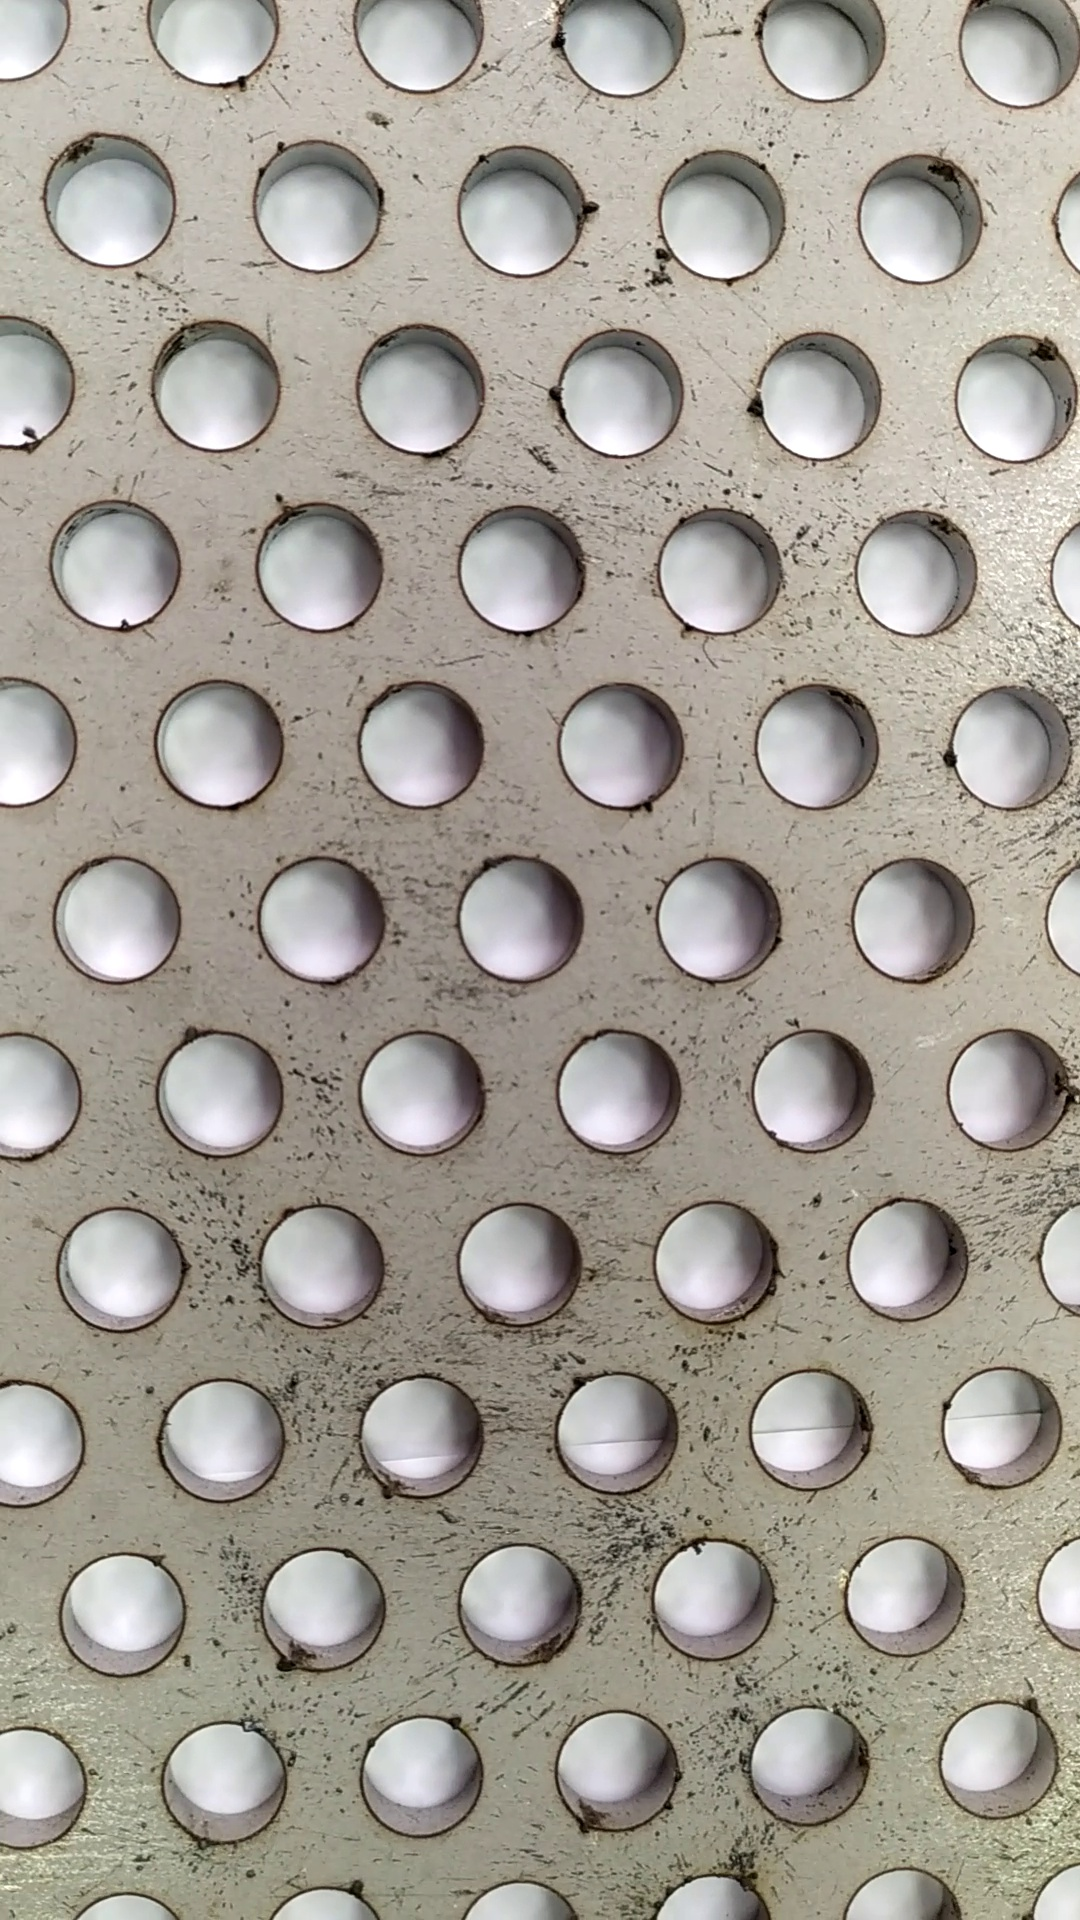Hole: (433, 132, 604, 291), (436, 491, 608, 644), (36, 483, 196, 642), (843, 829, 992, 1000), (240, 481, 394, 640), (30, 120, 185, 276), (345, 313, 500, 468), (140, 311, 295, 465), (645, 140, 802, 293), (233, 1189, 396, 1336), (641, 489, 791, 646), (922, 1681, 1073, 1834), (240, 843, 394, 993), (142, 1017, 298, 1166), (140, 670, 295, 818), (45, 1201, 206, 1344), (342, 666, 492, 818), (845, 140, 992, 295), (41, 847, 196, 993), (240, 1542, 402, 1681), (241, 131, 396, 277), (541, 1362, 696, 1507), (338, 1019, 496, 1162), (547, 1015, 692, 1170), (340, 1706, 498, 1847), (930, 1013, 1080, 1160), (444, 847, 596, 993), (145, 1373, 305, 1511), (551, 673, 705, 815), (932, 1352, 1080, 1499), (440, 1191, 591, 1336), (732, 1021, 884, 1164), (746, 666, 889, 819), (833, 1189, 985, 1332), (942, 315, 1080, 471), (541, 1697, 688, 1842), (547, 316, 691, 465), (638, 1189, 789, 1332), (745, 320, 889, 468), (932, 675, 1080, 819), (641, 844, 791, 985), (146, 1712, 298, 1850), (47, 1545, 196, 1685), (736, 1693, 881, 1836), (349, 1362, 496, 1503), (828, 1528, 975, 1668), (640, 1530, 787, 1668), (738, 1360, 885, 1495), (448, 1534, 589, 1671), (845, 505, 982, 640)
